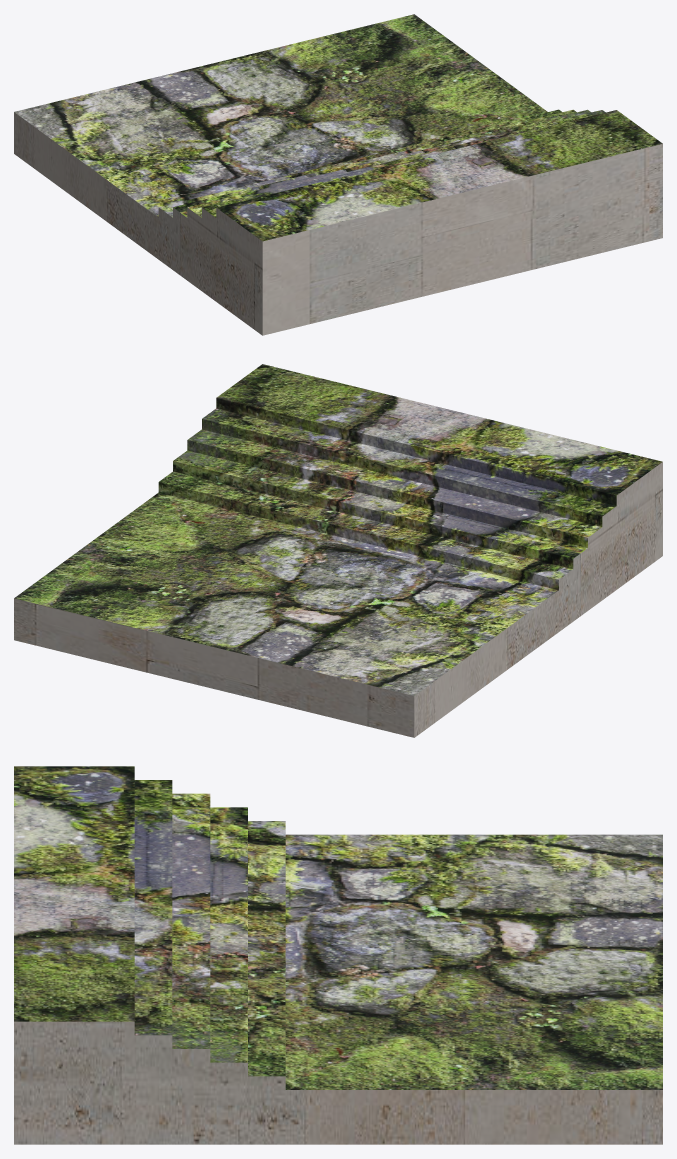
The model's file is StairsModel.dae.
3 views of the same model, one above another, from view 1: azimuth 30°, elevation 25°; view 2: azimuth 150°, elevation 25°; view 3: azimuth 270°, elevation 25° (orthographic). The views are drawn at different scales.
Visible parts, largest first — view 1: Total; view 2: Total; view 3: Total.
Part boxes in pixels (box(x1,y1,x2,y2)): Total: box(14, 14, 662, 335); Total: box(14, 364, 662, 737); Total: box(14, 766, 662, 1144).
Bounding box in the file's own units: 4 × 4.3 × 0.9.
